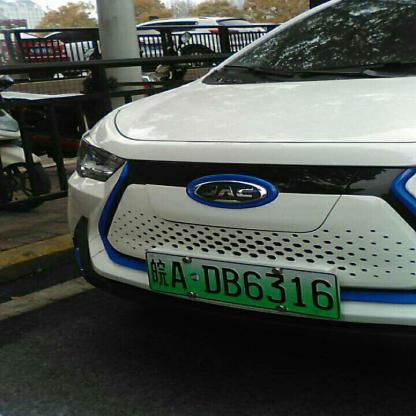lp: (146, 250, 339, 317)
